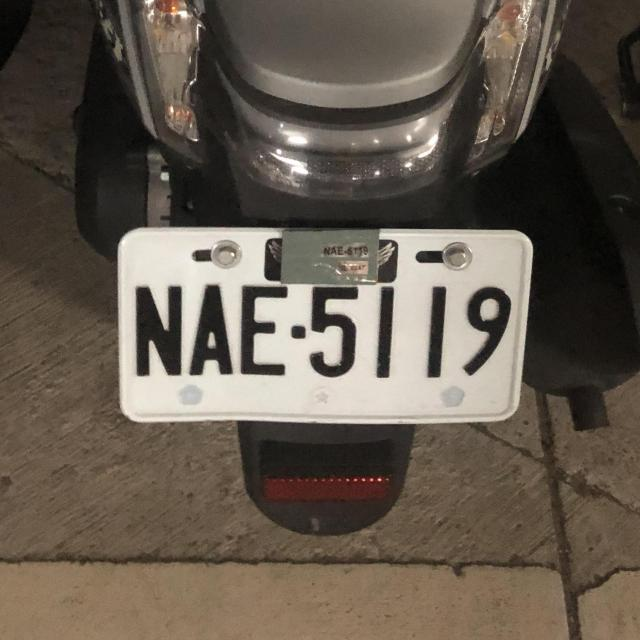W: (106, 203, 538, 442)
